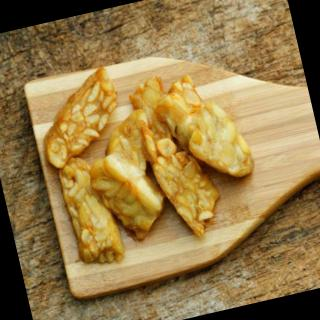Tempe: (29, 64, 155, 272), (148, 64, 258, 194), (77, 106, 177, 249), (138, 108, 229, 245), (29, 64, 131, 171), (55, 150, 128, 271), (126, 75, 177, 146)
